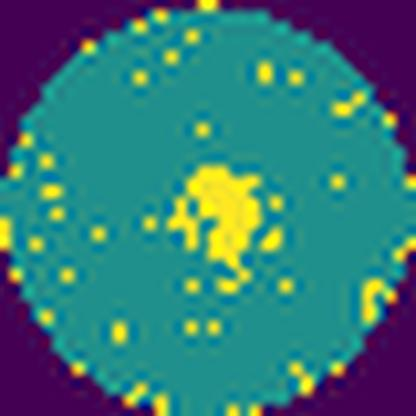Center: (166, 166, 261, 277)
